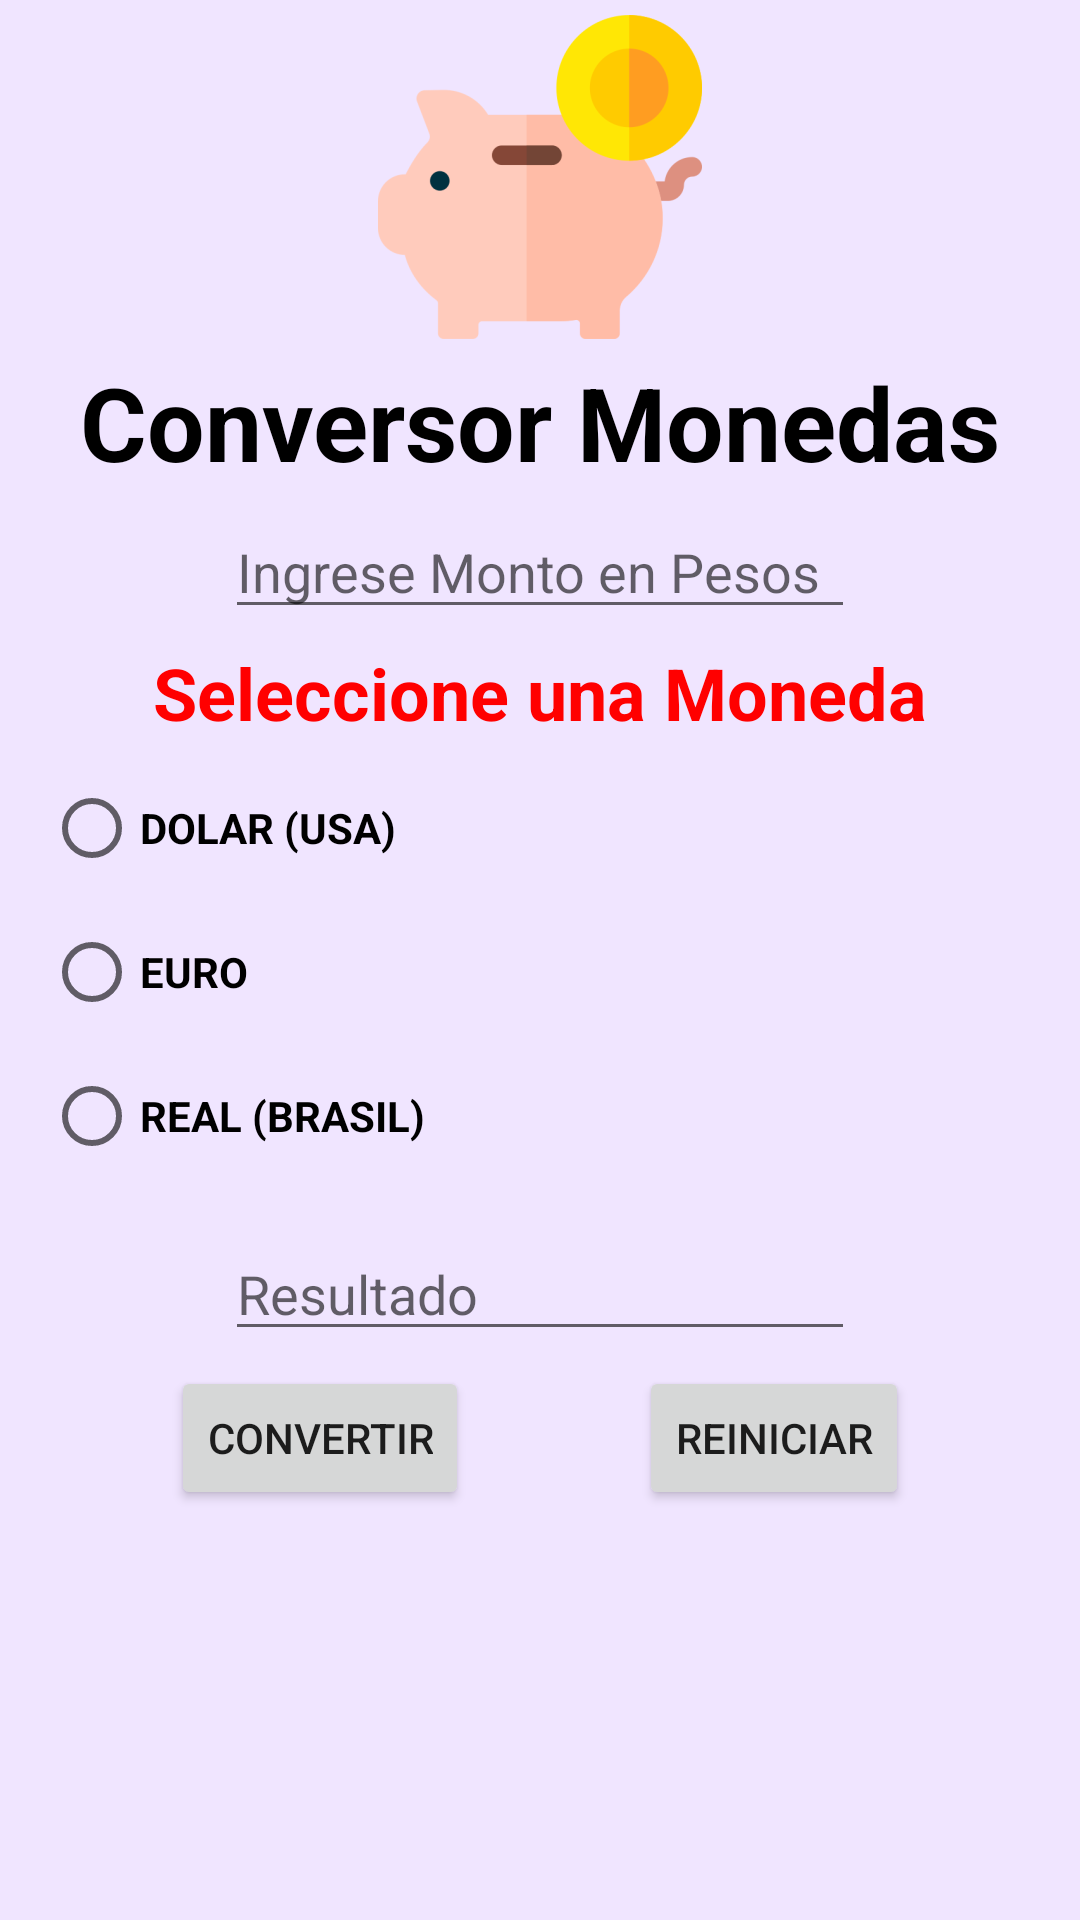

Icon click points for this 1080w x 1920h phone screenshot, format (x,y):
hucha: (540,177)
